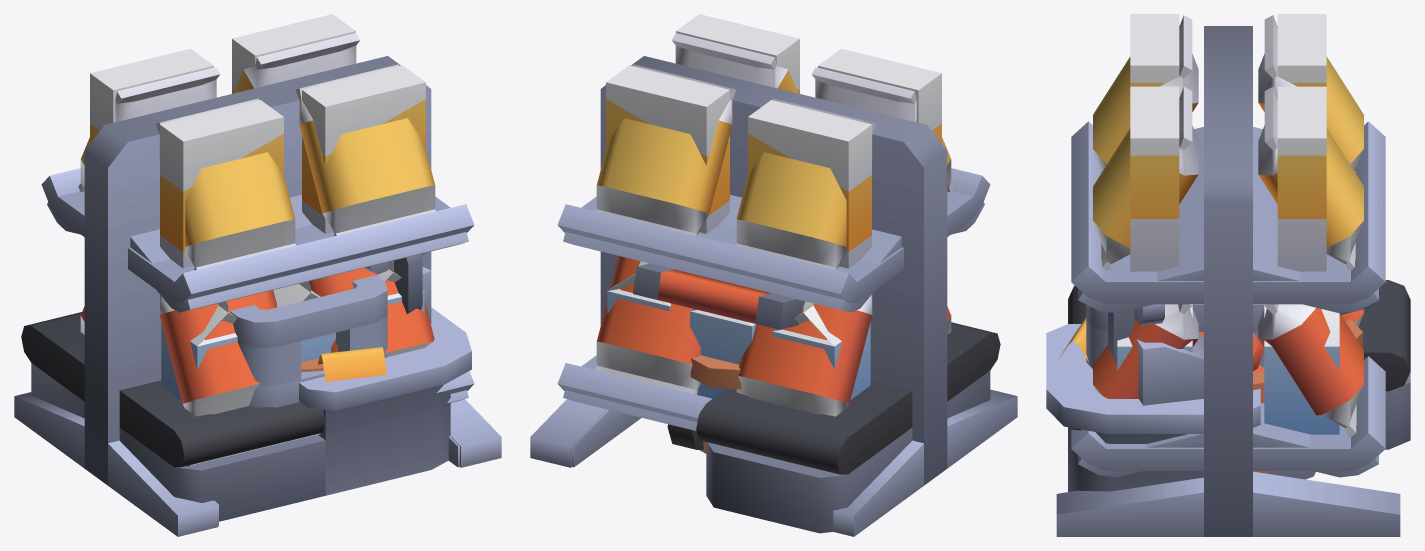
The model's file is shops.glb.
The picture shows the model from 3 angles, left to right: view 1: azimuth 30°, elevation 25°; view 2: azimuth 150°, elevation 25°; view 3: azimuth 270°, elevation 25°; orthographic projection. The views are drawn at different scales.
Visible parts, largest first — view 1: shelf-boxes, shelf-bags, cash-register, shopping-cart; view 2: shelf-boxes, shelf-bags, cash-register, shopping-cart, display-fruit; view 3: shelf-boxes, shelf-bags, cash-register, shopping-cart, display-fruit.
Boxes of the visible parts, x1=… form: shelf-boxes: x1=14, y1=14, x2=501, y2=536; shelf-bags: x1=47, y1=33, x2=468, y2=525; cash-register: x1=21, y1=253, x2=471, y2=521; shopping-cart: x1=230, y1=275, x2=387, y2=407; shelf-boxes: x1=530, y1=14, x2=1017, y2=536; shelf-bags: x1=563, y1=33, x2=984, y2=467; cash-register: x1=696, y1=322, x2=1000, y2=533; shopping-cart: x1=633, y1=263, x2=804, y2=449; display-fruit: x1=690, y1=355, x2=741, y2=453; shelf-boxes: x1=1056, y1=14, x2=1400, y2=536; shelf-bags: x1=1059, y1=15, x2=1397, y2=493; cash-register: x1=1046, y1=280, x2=1410, y2=491; shopping-cart: x1=1086, y1=304, x2=1370, y2=479; display-fruit: x1=1198, y1=319, x2=1363, y2=473.
Bounding box in the file's own units: 1.69 × 1.8 × 1.57.
Materials: 1 (1 with a texture image).
